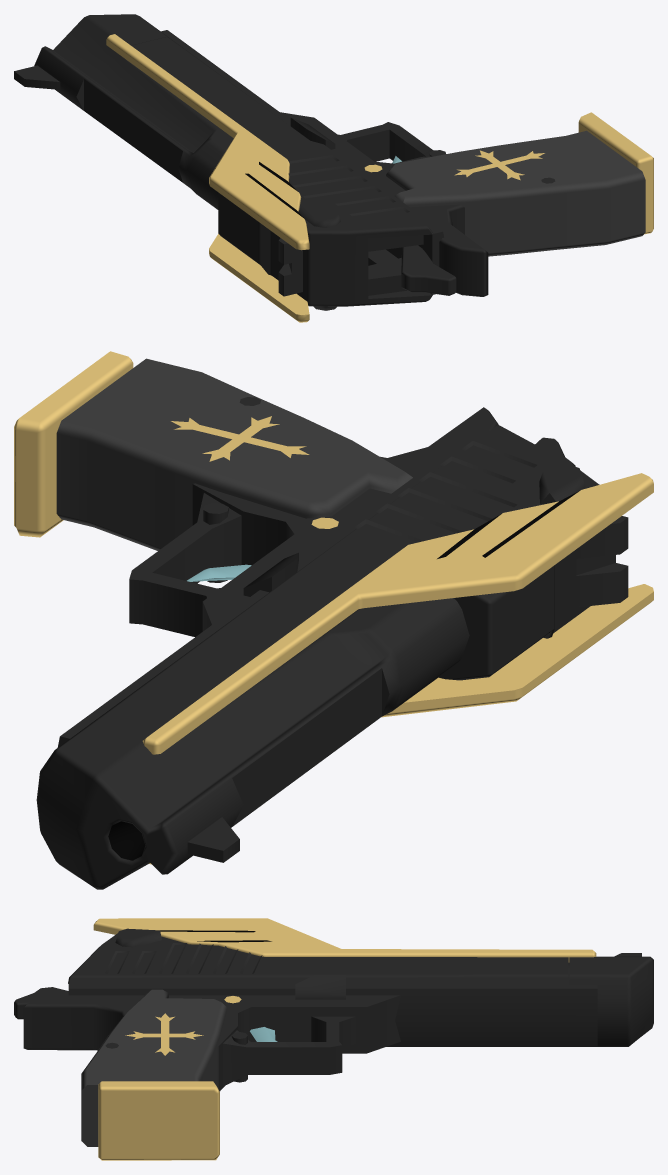
Rendered from hinata.glb.
The picture shows the model from 3 angles, top to bottom: view 1: azimuth 30°, elevation 25°; view 2: azimuth 150°, elevation 25°; view 3: azimuth 270°, elevation 25°; orthographic projection. The views are drawn at different scales.
Visible parts, largest first — view 1: Hinata_Original_Weapon; view 2: Hinata_Original_Weapon; view 3: Hinata_Original_Weapon.
Boxes of the visible parts, box(x1,y1,x2,y2) form: Hinata_Original_Weapon: box(14, 14, 653, 322); Hinata_Original_Weapon: box(14, 351, 653, 889); Hinata_Original_Weapon: box(14, 918, 653, 1160).
Bounding box in the file's own units: 0.1662 × 0.0405 × 0.2675.
Materials: 1 (1 with a texture image).
